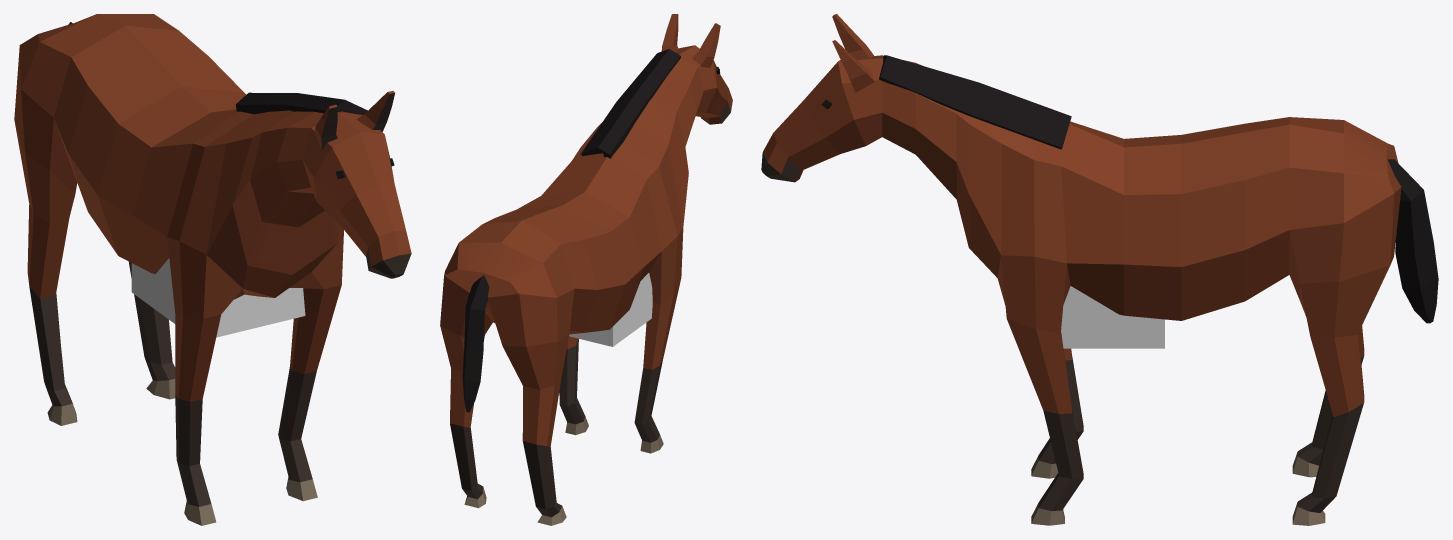
The model's file is horse.glb.
The picture shows the model from 3 angles, left to right: view 1: azimuth 30°, elevation 25°; view 2: azimuth 150°, elevation 25°; view 3: azimuth 270°, elevation 25°; orthographic projection. The views are drawn at different scales.
Visible parts, largest first — view 1: Geo_Horse, Cube; view 2: Geo_Horse, Cube; view 3: Geo_Horse, Cube.
Part boxes in pixels (bbox=[...]): Geo_Horse: bbox=[14, 14, 411, 525]; Cube: bbox=[131, 258, 305, 337]; Geo_Horse: bbox=[440, 14, 732, 525]; Cube: bbox=[569, 273, 652, 346]; Geo_Horse: bbox=[761, 14, 1438, 525]; Cube: bbox=[1061, 286, 1164, 348].
Bounding box in the file's own units: 2.86 × 7.96 × 10.43.
2 materials, 1 textured.
